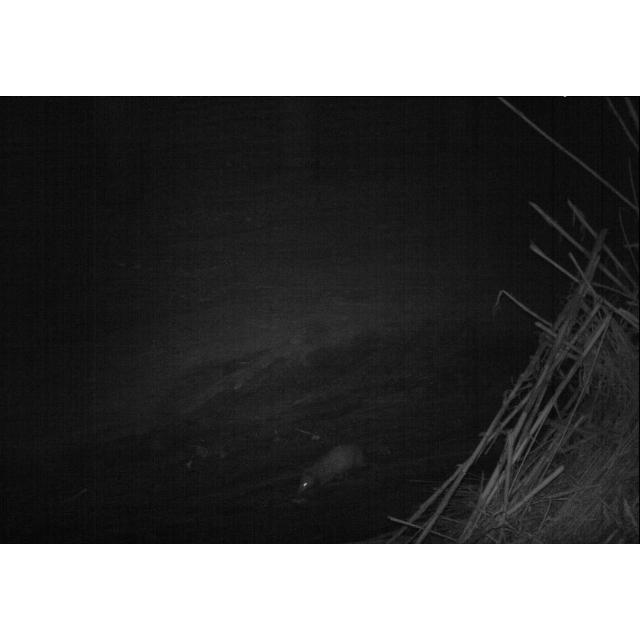animals: (296, 441, 370, 495)
